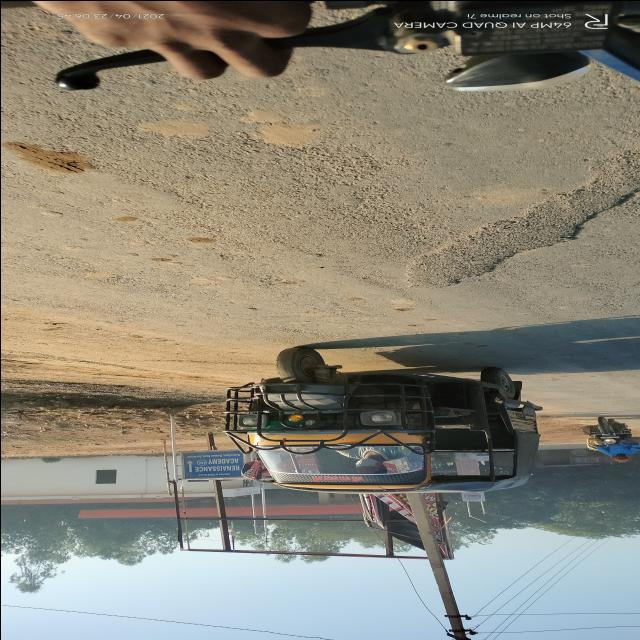Autorickshaw: (220, 340, 548, 486)
